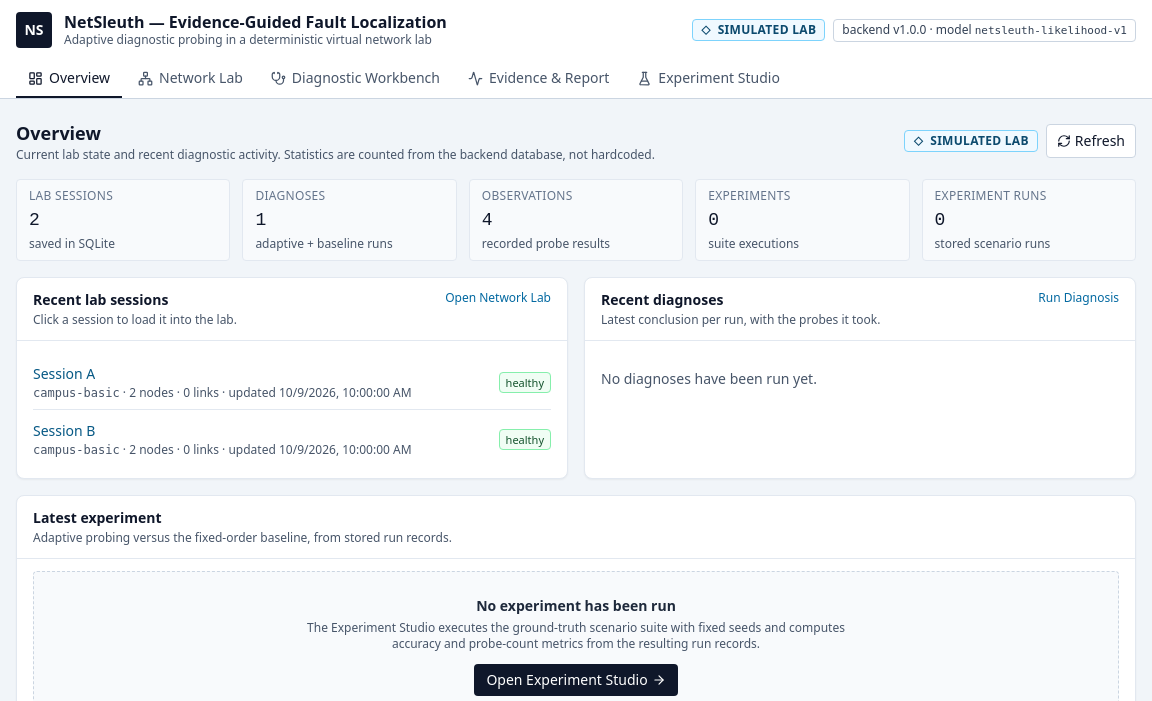
Audit regressions › does not show a diagnosis from a previous session against a new topology
Click the button "Session A" at (64, 374), box [33,364,95,384]
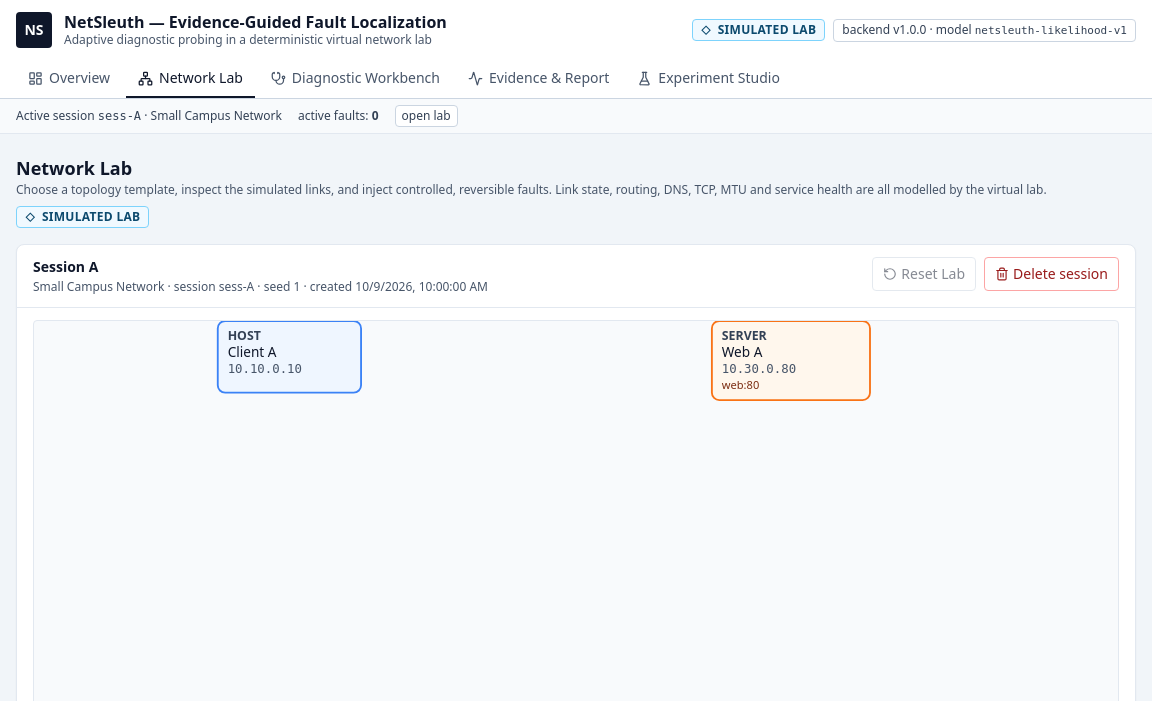
Check: the text "Active session sess-A · Small Campus Network" is shown, box [16,108,282,124]
// Run a diagnosis on session A.
Click the link "Diagnostic Workbench" at (355, 78), box [271,68,440,87]
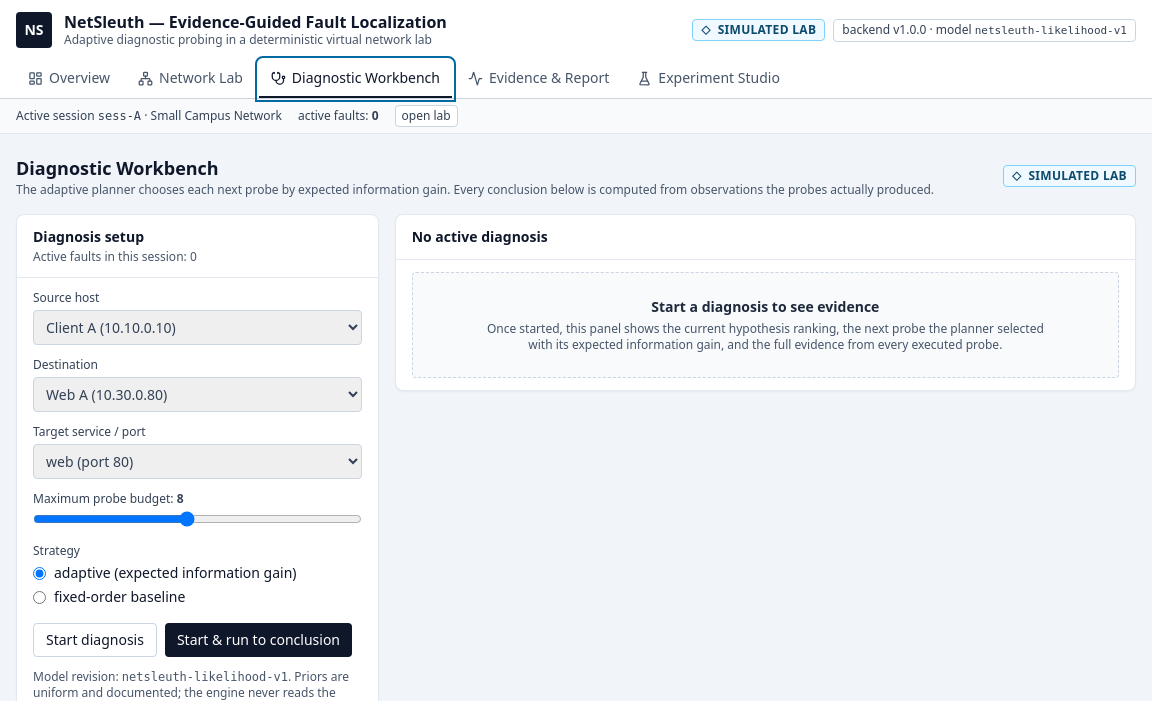
Click the button "Start diagnosis" at (95, 640), box [33,623,157,657]
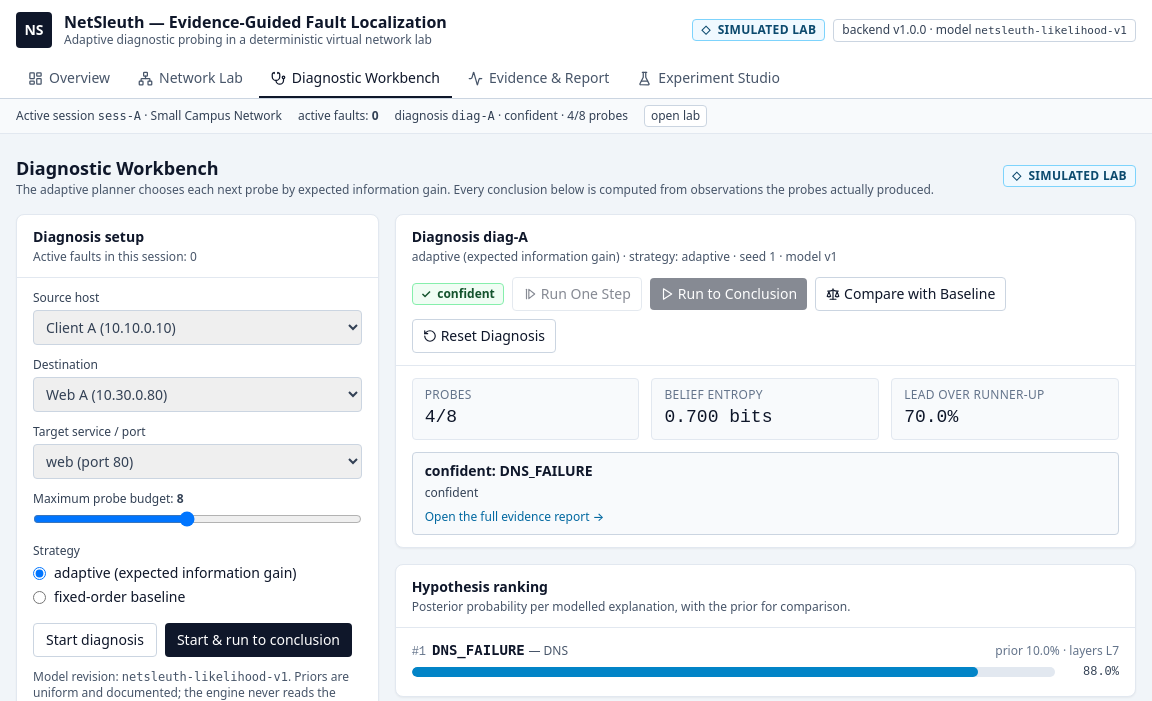
Check: the text "DNS_FAILURE" is shown, box [432,642,525,658]
// Now switch to session B through the Overview page.
Click the link "Overview" at (69, 78), box [28,68,110,87]
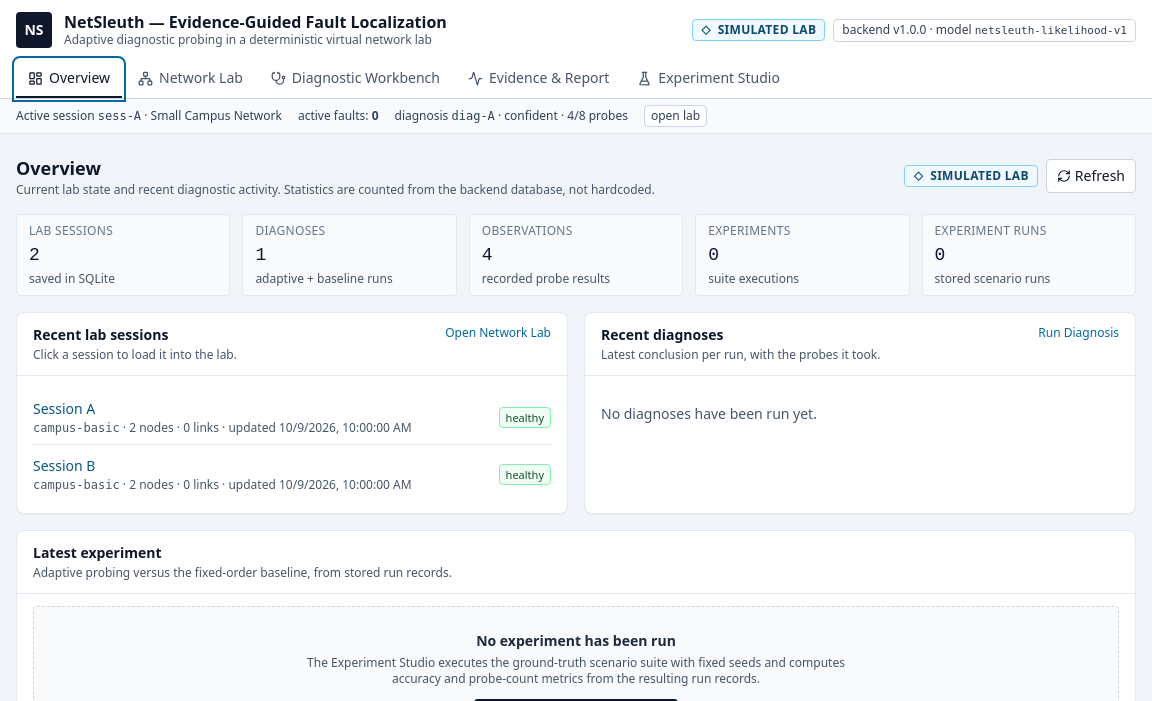
Click the button "Session B" at (64, 466), box [33,456,96,476]
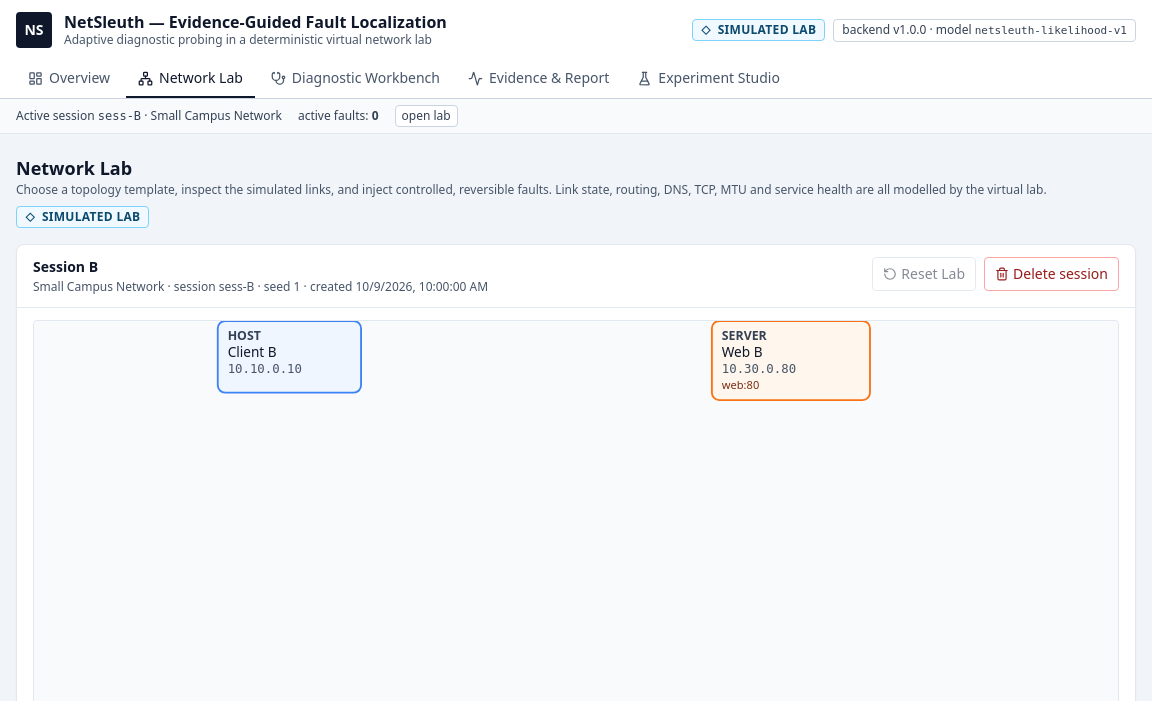
Check: the text "sess-B" is shown, box [98,109,141,123]
Click the link "Diagnostic Workbench" at (355, 78), box [271,68,440,87]
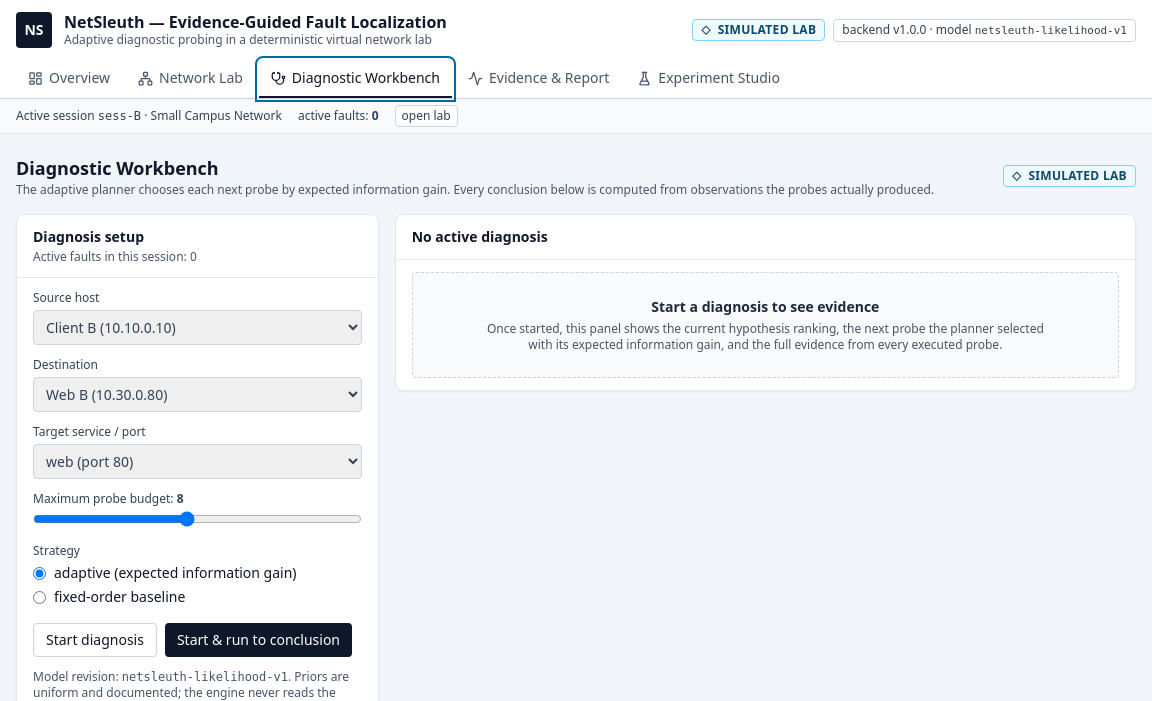
Check: the text "diag-A" is not shown
Check: the button "Start diagnosis" is shown, box [33,623,157,657]
